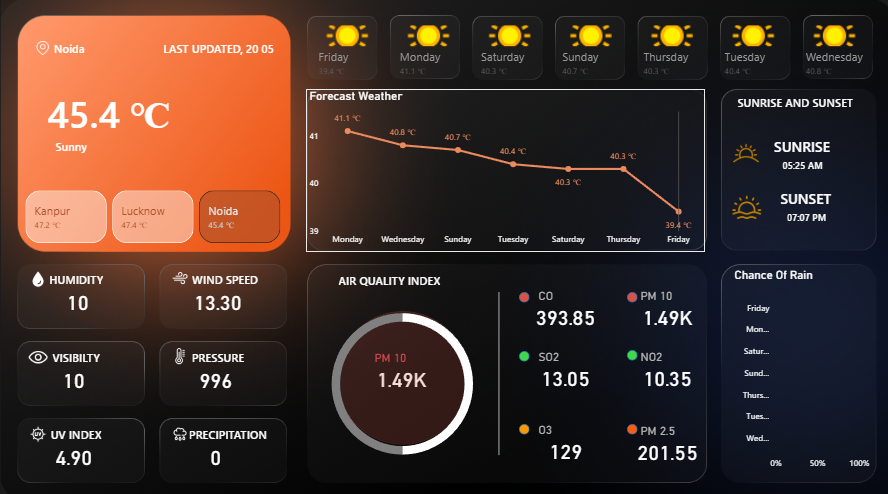

The page's visual inventory and layout, read from the dashboard file:
{"tool":"powerbi","page":{"name":"Page 1","canvas":[1280,720],"ordinal":0},"visuals":[{"type":"advancedSlicerVisual","fields":{"Values":["Locations.location.name"],"Label":["Measuress.Curr_temp_C"]},"box":[31.1,266.7,375.6,85.6],"z":0},{"type":"shape","box":[42.3,113.1,225.4,95.4],"z":1000},{"type":"shape","box":[60.6,181.2,83.5,54.1],"z":2000},{"type":"shape","box":[57.1,41.7,83.7,54.6],"z":3000},{"type":"shape","box":[219.1,41.8,187.3,54.5],"z":4000},{"type":"image","box":[48.3,58.9,25.1,20.3],"z":5000},{"type":"image","box":[38.9,493.9,31.7,32.2],"z":6000},{"type":"shape","box":[70.5,495,77.5,29.5],"z":7000},{"type":"image","box":[43.3,383.9,23.3,29.4],"z":8000},{"type":"shape","box":[61.1,383.9,95,29.4],"z":9000},{"type":"image","box":[245,383.5,23,29.5],"z":10000},{"type":"image","box":[42.5,605,23,29.5],"z":11000},{"type":"image","box":[245,494,23,29.5],"z":12000},{"type":"image","box":[245,605,23,29.5],"z":13000},{"type":"shape","box":[268,384,106,29.5],"z":14000},{"type":"shape","box":[273.5,495,77.5,29.5],"z":15000},{"type":"shape","box":[70.5,605,77.5,29.5],"z":16000},{"type":"shape","box":[268,605,114.5,29.5],"z":17000},{"type":"kpi","fields":{"TrendLine":["Current.current.humidity"],"Indicator":["Sum(Current.current.humidity)"]},"box":[67,399,88,67],"z":18000},{"type":"kpi","fields":{"Indicator":["Sum(Current.current.wind_kph)"],"TrendLine":["Current.current.wind_kph"]},"box":[267,399,88,67],"z":19000},{"type":"kpi","fields":{"Indicator":["Sum(Current.current.vis_km)"],"TrendLine":["Current.current.vis_km"]},"box":[61,510,88,67],"z":20000},{"type":"kpi","fields":{"Indicator":["Sum(Current.current.pressure_mb)"],"TrendLine":["Current.current.pressure_mb"]},"box":[264,510,88,67],"z":21000},{"type":"kpi","fields":{"Indicator":["Sum(Current.current.uv)"],"TrendLine":["Current.current.uv"]},"box":[61,620,88,67],"z":22000},{"type":"kpi","fields":{"Indicator":["Sum(Current.current.precip_mm)"],"TrendLine":["Current.current.precip_mm"]},"box":[264,620,88,67],"z":23000},{"type":"advancedSlicerVisual","fields":{"Values":["Forecast_days.Day_Name"]},"box":[437.5,30,814.4,97.5],"z":24000},{"type":"lineChart","title":"Forecast Weather","fields":{"Y":["Sum(Forecast_days.forecast.forecastday.day.avgtemp_c)"],"Category":["Forecast_days.Day_Name"]},"box":[437.8,127.8,568.9,232.2],"z":25000},{"type":"shape","box":[1043.3,133.3,186.7,27.8],"z":26000},{"type":"shape","box":[1112.2,215.6,67.8,40],"z":27000},{"type":"shape","box":[1115.6,283.3,73.3,55.6],"z":28000},{"type":"shape","box":[1098.9,188.9,94.4,38.9],"z":29000},{"type":"shape","box":[1112.2,255.6,76.7,55.6],"z":30000},{"type":"image","box":[1043.6,276.4,44.5,40.9],"z":31000},{"type":"image","box":[1034.5,194.5,62.7,49.1],"z":32000},{"type":"hundredPercentStackedBarChart","title":"Chance Of Rain","fields":{"Y":["Sum(Forecast_days.forecast.forecastday.day.daily_chance_of_rain)"],"Category":["Forecast_days.Day_Name"]},"box":[1044.3,382.9,202.9,297.1],"z":33000},{"type":"shape","box":[462.9,385.7,187.1,28.6],"z":34000},{"type":"kpi","title":"PM 10","fields":{"TrendLine":["Current.current.air_quality.co"],"Indicator":["Sum(Current.current.air_quality.pm10)"]},"box":[910,413.3,87.8,61.1],"z":35000},{"type":"kpi","title":"NO2","fields":{"TrendLine":["Current.current.air_quality.co"],"Indicator":["Sum(Current.current.air_quality.no2)"]},"box":[910,500,87.8,61.1],"z":36000},{"type":"kpi","title":"PM 2.5","fields":{"TrendLine":["Current.current.air_quality.co"],"Indicator":["Sum(Current.current.air_quality.pm2_5)"]},"box":[910,605.6,87.8,61.1],"z":37000},{"type":"kpi","title":"CO","fields":{"TrendLine":["Current.current.air_quality.co"],"Indicator":["Sum(Current.current.air_quality.co)"]},"box":[764.4,413.3,87.8,61.1],"z":38000},{"type":"kpi","title":"SO2","fields":{"TrendLine":["Current.current.air_quality.co"],"Indicator":["Sum(Current.current.air_quality.so2)"]},"box":[764.4,500,87.8,61.1],"z":39000},{"type":"kpi","title":"O3","fields":{"TrendLine":["Current.current.air_quality.co"],"Indicator":["Sum(Current.current.air_quality.o3)"]},"box":[764.4,604.4,87.8,61.1],"z":40000},{"type":"shape","box":[741.7,417.5,15,15],"z":41000},{"type":"shape","box":[741.7,501.1,15,15],"z":42000},{"type":"shape","box":[741.7,605,15,15],"z":43000},{"type":"shape","box":[895,605,15,15],"z":44000},{"type":"shape","box":[895,500,15,15],"z":45000},{"type":"shape","box":[895,417.2,15,15],"z":46000},{"type":"shape","box":[668.3,416.7,88.3,233.3],"z":47000},{"type":"kpi","title":"PM 10","fields":{"TrendLine":["Current.current.air_quality.co"],"Indicator":["Sum(Current.current.air_quality.pm10)"]},"box":[530,500.9,88.2,61.8],"z":48000},{"type":"shape","box":[481.1,444.4,187.8,191.1],"z":49000},{"type":"donutChart","fields":{"Y":["Measuress.Left_value_PM10"],"Category":["Current.current.air_quality.pm10"]},"box":[442.5,417.5,263.8,262.5],"z":50000}]}

Visuals, with their boxes in screenshot pixels (x1, y1, x2, y2), scaled from the page's 1280x720 canvas onto the 888x494 screenshot:
advancedSlicerVisual - Locations.location.name x Measuress.Curr_temp_C: bbox=(22, 183, 282, 242)
shape: bbox=(29, 78, 186, 143)
shape: bbox=(42, 124, 100, 161)
shape: bbox=(40, 29, 98, 66)
shape: bbox=(152, 29, 282, 66)
image: bbox=(34, 40, 51, 54)
image: bbox=(27, 339, 49, 361)
shape: bbox=(49, 340, 103, 360)
image: bbox=(30, 263, 46, 284)
shape: bbox=(42, 263, 108, 284)
image: bbox=(170, 263, 186, 283)
image: bbox=(29, 415, 45, 435)
image: bbox=(170, 339, 186, 359)
image: bbox=(170, 415, 186, 435)
shape: bbox=(186, 263, 259, 284)
shape: bbox=(190, 340, 244, 360)
shape: bbox=(49, 415, 103, 435)
shape: bbox=(186, 415, 265, 435)
kpi - Current.current.humidity x Sum(Current.current.humidity): bbox=(46, 274, 108, 320)
kpi - Sum(Current.current.wind_kph) x Current.current.wind_kph: bbox=(185, 274, 246, 320)
kpi - Sum(Current.current.vis_km) x Current.current.vis_km: bbox=(42, 350, 103, 396)
kpi - Sum(Current.current.pressure_mb) x Current.current.pressure_mb: bbox=(183, 350, 244, 396)
kpi - Sum(Current.current.uv) x Current.current.uv: bbox=(42, 425, 103, 471)
kpi - Sum(Current.current.precip_mm) x Current.current.precip_mm: bbox=(183, 425, 244, 471)
advancedSlicerVisual - Forecast_days.Day_Name: bbox=(304, 21, 869, 87)
"Forecast Weather" lineChart: bbox=(304, 88, 698, 247)
shape: bbox=(724, 91, 853, 111)
shape: bbox=(772, 148, 819, 175)
shape: bbox=(774, 194, 825, 233)
shape: bbox=(762, 130, 828, 156)
shape: bbox=(772, 175, 825, 214)
image: bbox=(724, 190, 755, 218)
image: bbox=(718, 133, 761, 167)
"Chance Of Rain" hundredPercentStackedBarChart: bbox=(724, 263, 865, 467)
shape: bbox=(321, 265, 451, 284)
"PM 10" kpi: bbox=(631, 284, 692, 325)
"NO2" kpi: bbox=(631, 343, 692, 385)
"PM 2.5" kpi: bbox=(631, 416, 692, 457)
"CO" kpi: bbox=(530, 284, 591, 325)
"SO2" kpi: bbox=(530, 343, 591, 385)
"O3" kpi: bbox=(530, 415, 591, 457)
shape: bbox=(515, 286, 525, 297)
shape: bbox=(515, 344, 525, 354)
shape: bbox=(515, 415, 525, 425)
shape: bbox=(621, 415, 631, 425)
shape: bbox=(621, 343, 631, 353)
shape: bbox=(621, 286, 631, 297)
shape: bbox=(464, 286, 525, 446)
"PM 10" kpi: bbox=(368, 344, 429, 386)
shape: bbox=(334, 305, 464, 436)
donutChart - Measuress.Left_value_PM10 x Current.current.air_quality.pm10: bbox=(307, 286, 490, 467)
